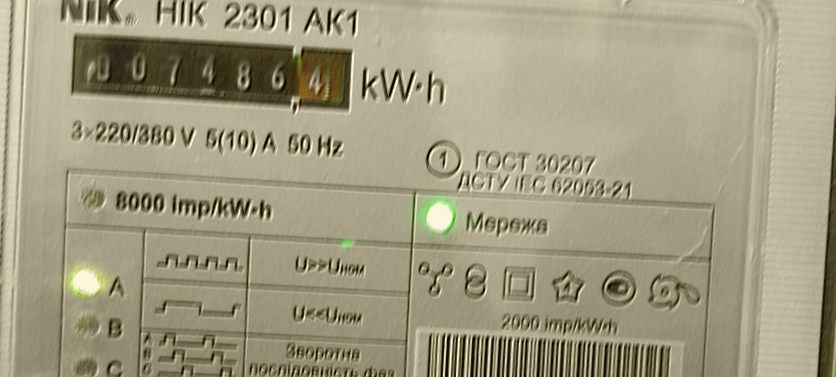0: (90, 48, 112, 83), (127, 48, 147, 82)
4: (196, 49, 216, 85), (304, 61, 323, 95)
6: (267, 58, 288, 91)
7: (159, 51, 184, 85)
8: (233, 57, 252, 93)
screen: (59, 22, 361, 123)
